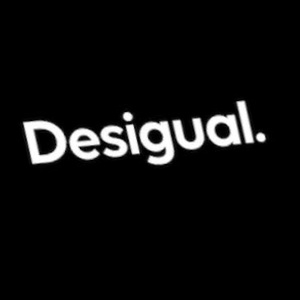desigual: (236, 25, 284, 128)
